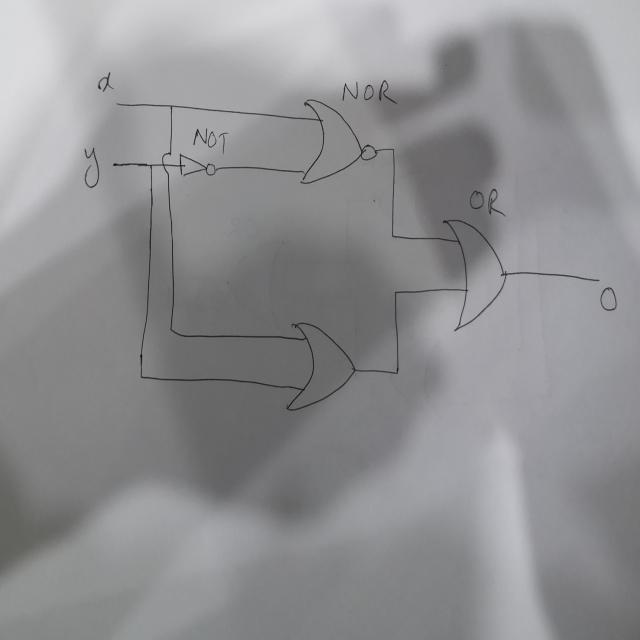crossover: (160, 150, 173, 177)
junction: (391, 364, 402, 378), (388, 229, 397, 241), (389, 143, 397, 154), (167, 324, 175, 335), (137, 371, 145, 381), (391, 287, 399, 297), (146, 160, 153, 170), (168, 102, 174, 110)
terminal: (110, 157, 122, 170), (595, 274, 601, 284), (113, 99, 120, 107)
text: (339, 76, 397, 108), (468, 186, 506, 216), (189, 126, 229, 154), (82, 145, 100, 189), (599, 284, 617, 311), (96, 70, 114, 92)
